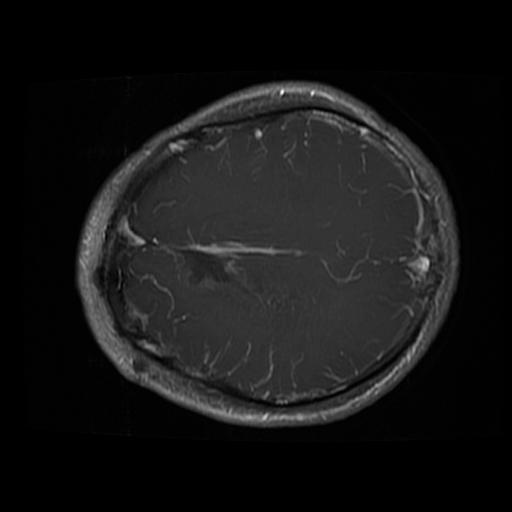glioma: (176, 220, 238, 293)
